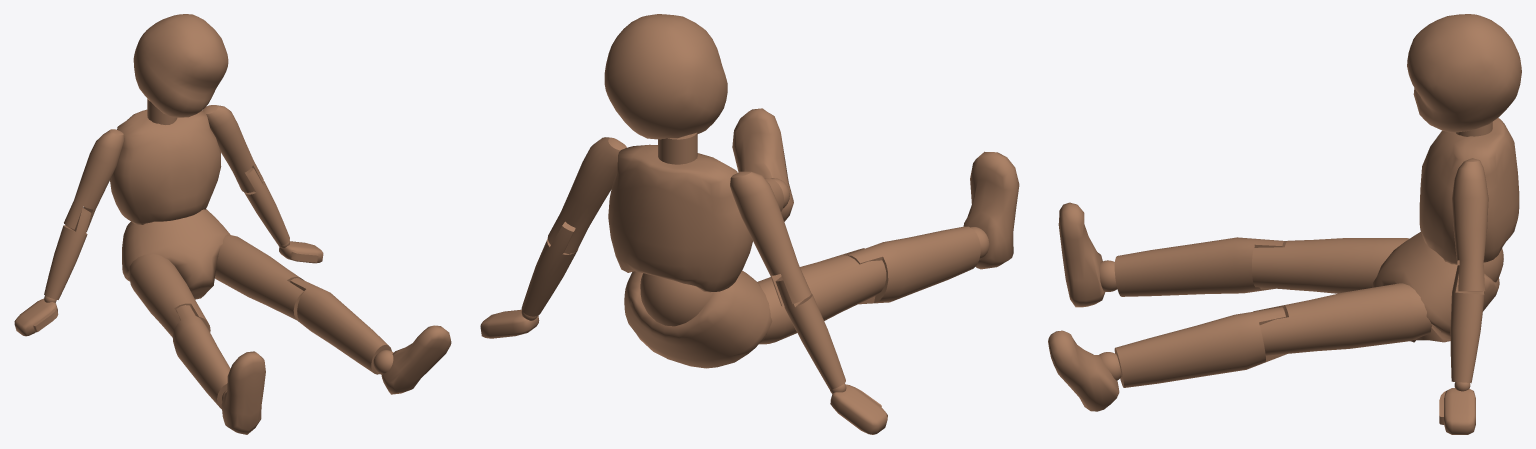
Rendered from wooden model 1.fbx.
3 renders of one model, left to right at view 1: azimuth 30°, elevation 25°; view 2: azimuth 150°, elevation 25°; view 3: azimuth 270°, elevation 25°, orthographic. The views are drawn at different scales.
Parts seen in each view (by area): view 1: polySurface63; view 2: polySurface63; view 3: polySurface63.
Part boxes in pixels (x1,y1,x2,y2): polySurface63: [14, 14, 451, 434]; polySurface63: [480, 14, 1019, 434]; polySurface63: [1048, 14, 1521, 434].
Bounding box in the file's own units: 0.583 × 0.52 × 0.6407.
